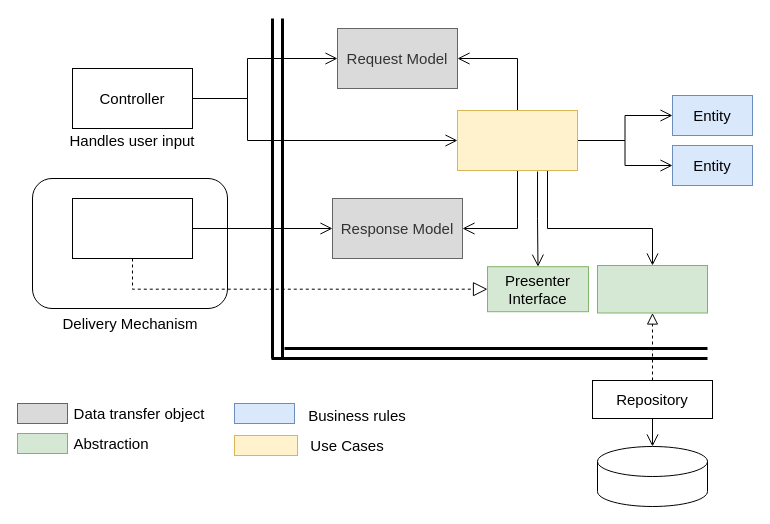
Some shapes in this 770 by 524 pixel diagram are drawn without their labels. The shapes that lost their labels are listed below. From the top down, each one's centre as x and y in pixels, then its label:
At (x=517, y=140): "Use Case".
At (x=132, y=228): "Presenter".
At (x=652, y=288): "Repository Interface".
At (x=652, y=476): "Database".
